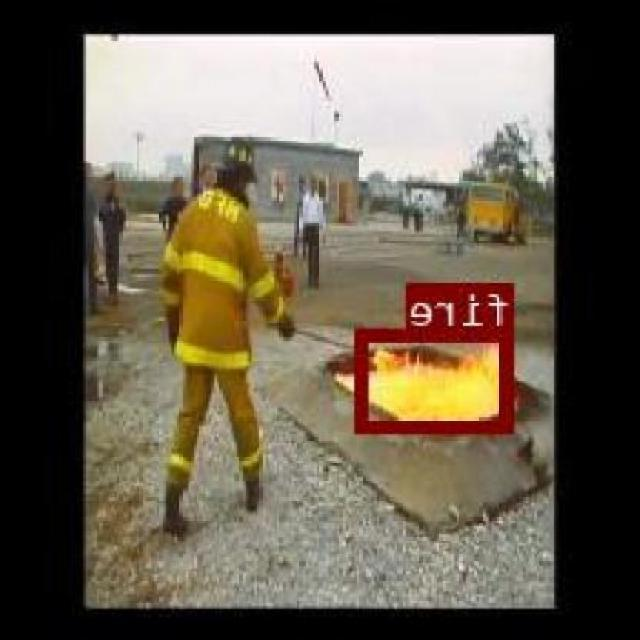Fire: (358, 326, 516, 429)
